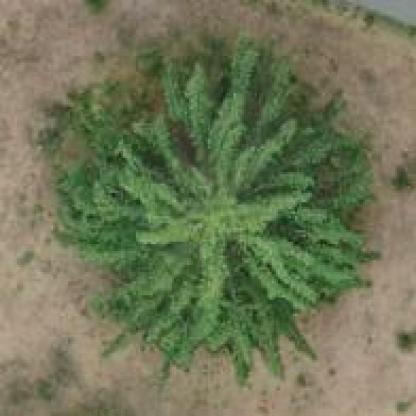Coniferous Tree: (46, 43, 413, 399)
